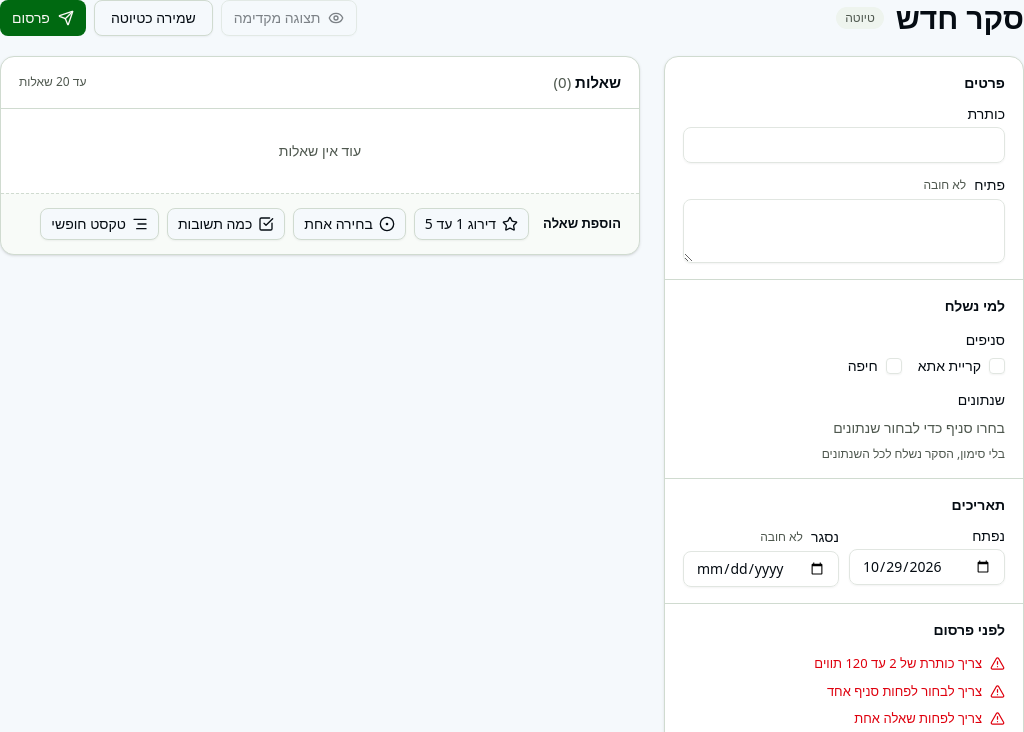
Scenario: SurveyBuilder: Questions › adds a Question of each kind, in order, and the new one takes focus
This screenshot has width=1024, height=732.
What coordinates should you click on to do the following:
click the button "דירוג 1 עד 5"
I would click on:
 (471, 224)
Its box is [414,208,529,240].
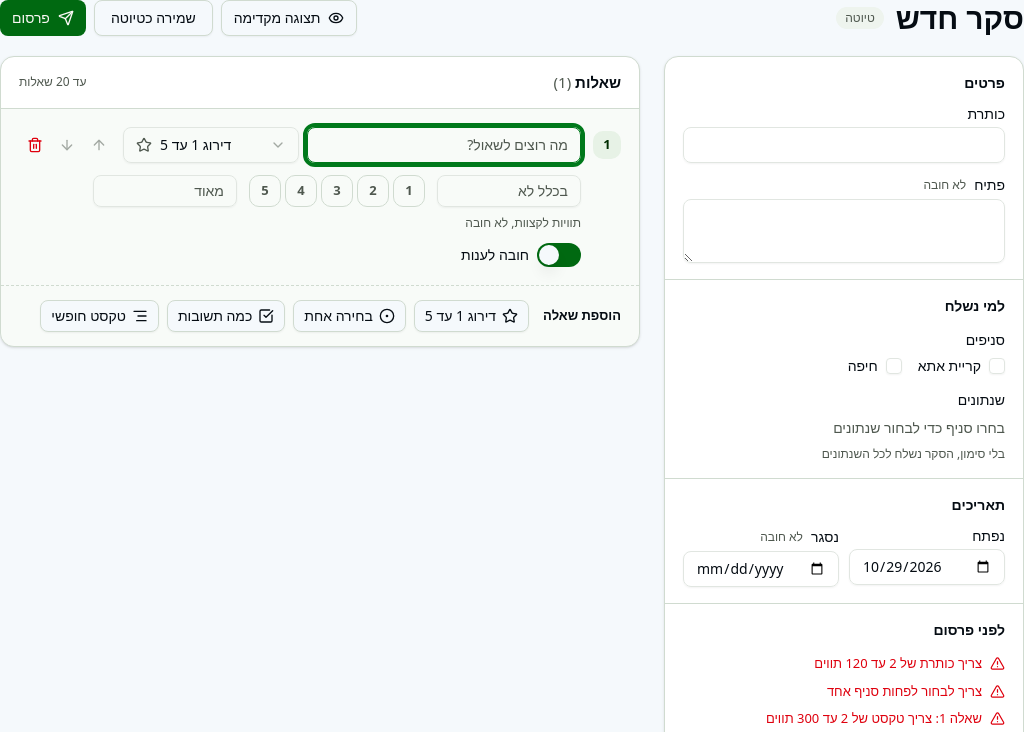
What coordinates should you click on to do the following:
click the button "בחירה אחת"
I would click on:
 (350, 316)
Its box is [293,300,406,332].
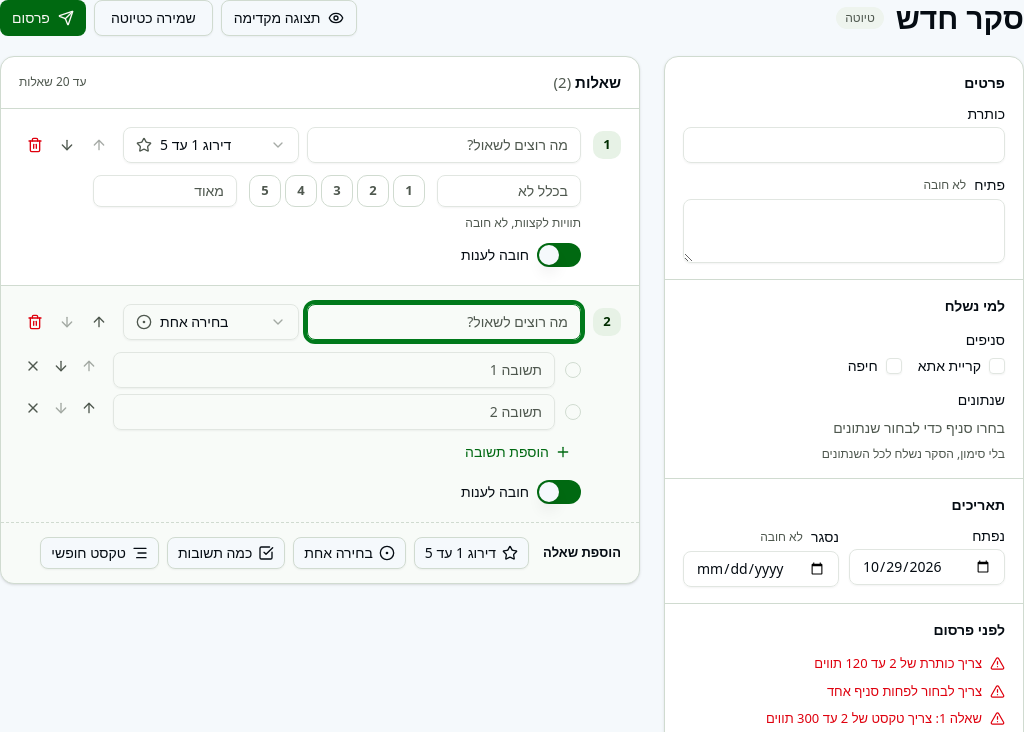
What coordinates should you click on to do the following:
click the button "כמה תשובות"
I would click on:
 (226, 552)
Its box is [167,536,285,568].
(page scrolled)
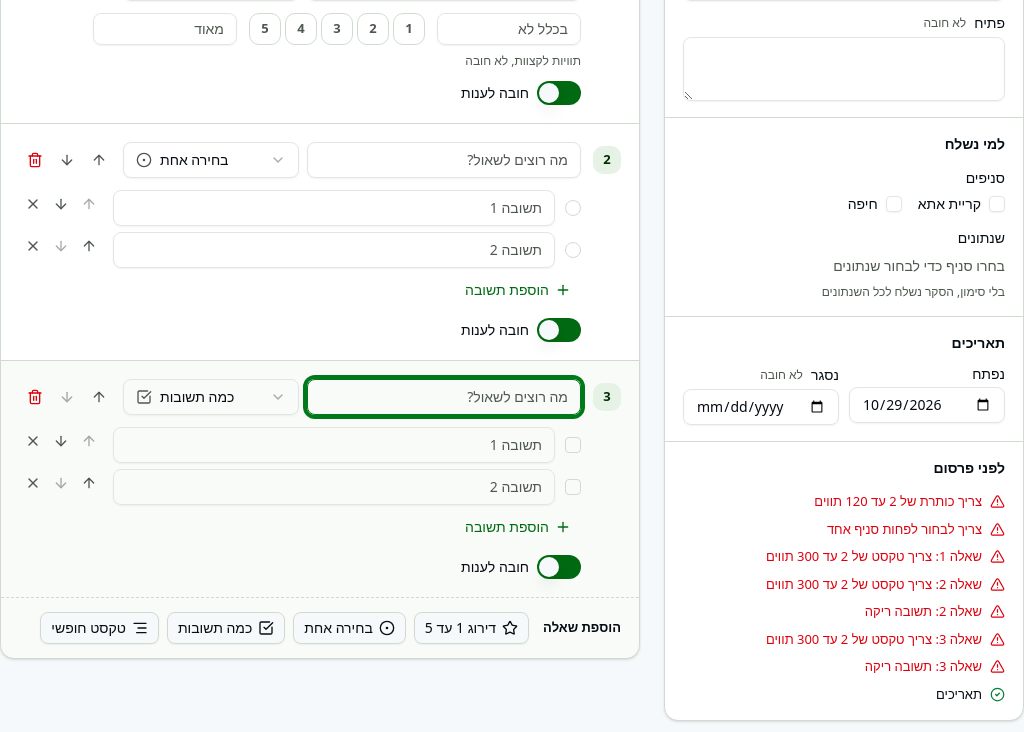
What coordinates should you click on to do the following:
click the button "טקסט חופשי"
I would click on:
 (100, 628)
Its box is [40,612,159,644].
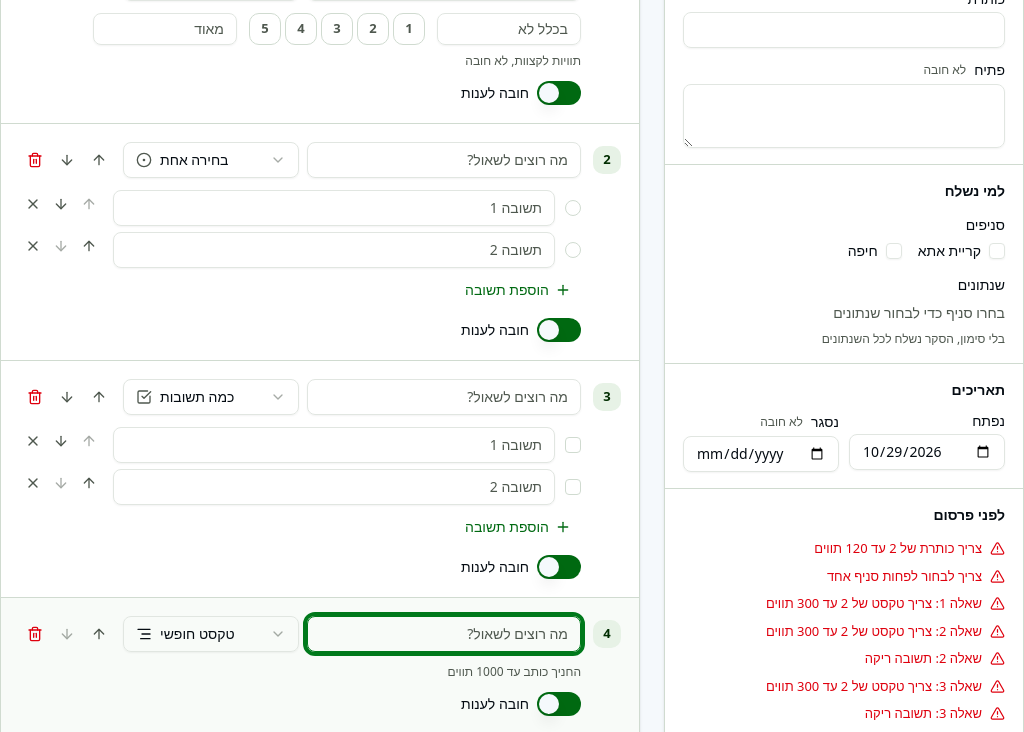
Check: the text "החניך כותב עד 1000 תווים" is shown, box [448,662,581,680]
